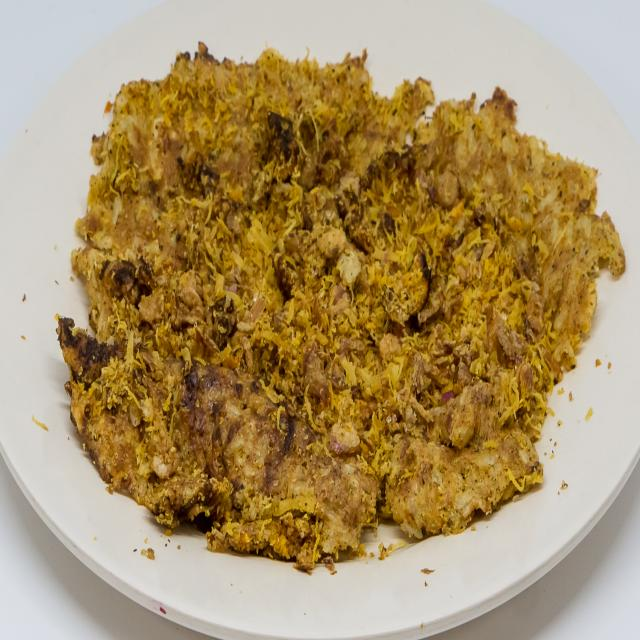Kerak-Telor: (49, 21, 626, 590)
